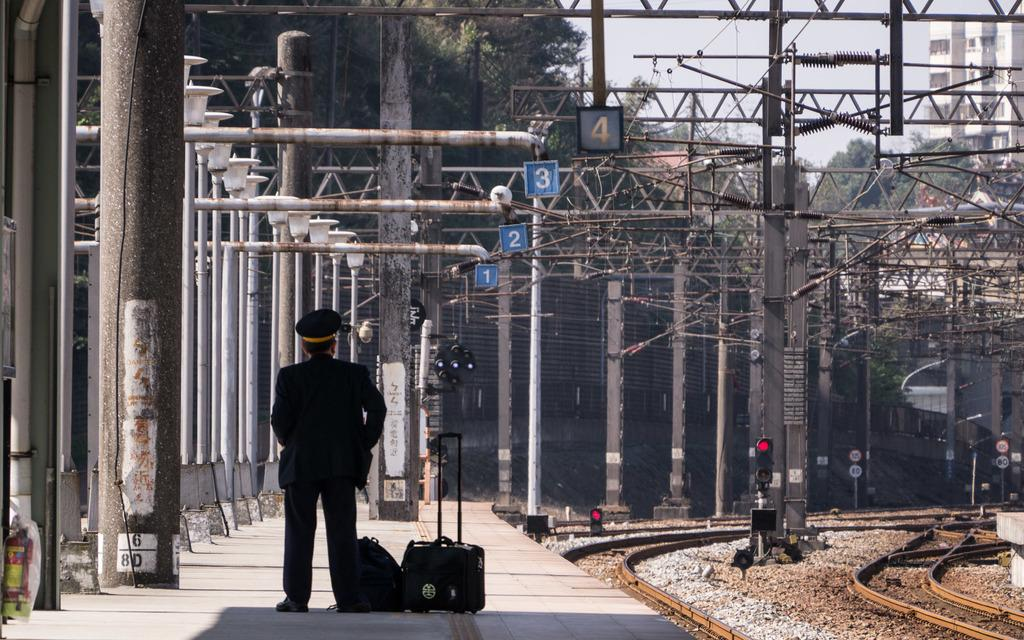Luggage-and-bags: (401, 426, 487, 612), (346, 531, 403, 612)
